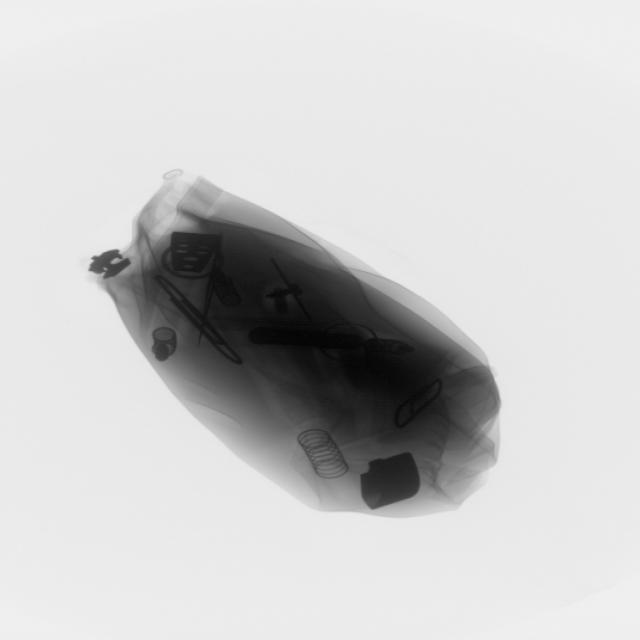BLADE: (82, 245, 144, 285)
